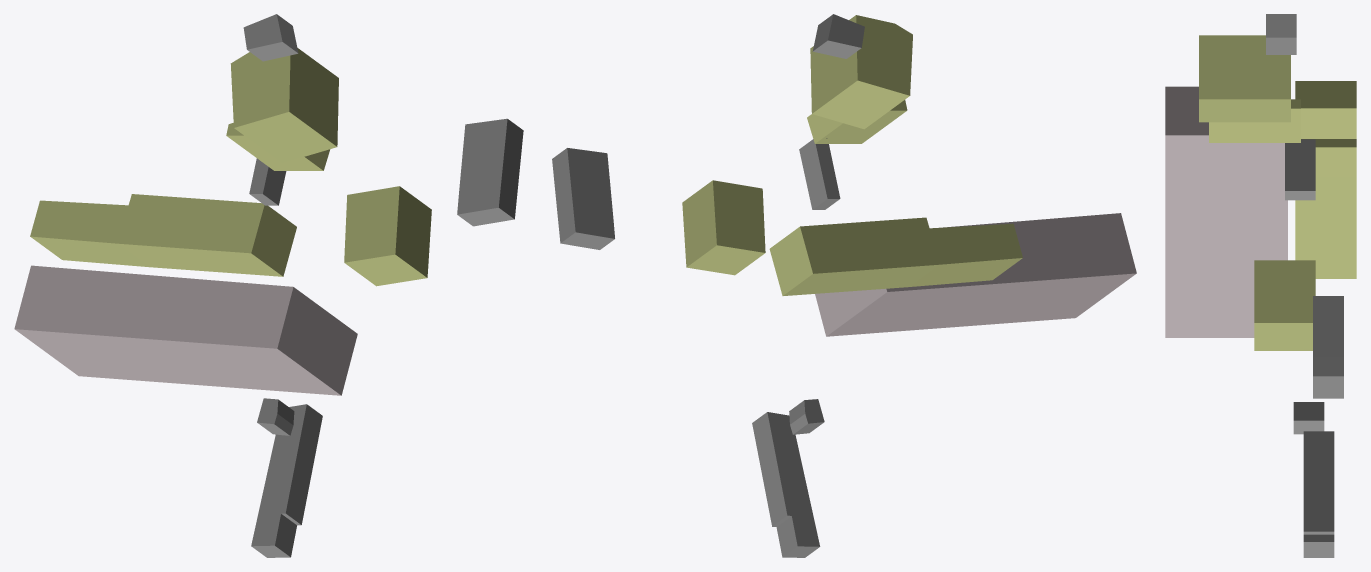
3 views of the same model, side by side, from view 1: azimuth 30°, elevation 25°; view 2: azimuth 150°, elevation 25°; view 3: azimuth 270°, elevation 25° (orthographic). The views are drawn at different scales.
Visible parts, largest first — view 1: 0_1_2_0_1_3_0_3_1; view 2: 0_1_2_0_1_3_0_3_1; view 3: 0_1_2_0_1_3_0_3_1.
Part boxes in pixels (left/top/right/bottom): 0_1_2_0_1_3_0_3_1: left=14, top=14, right=523, bottom=557; 0_1_2_0_1_3_0_3_1: left=552, top=14, right=1136, bottom=557; 0_1_2_0_1_3_0_3_1: left=1165, top=14, right=1356, bottom=557.
Size of the model in its own units: 56.28 by 56.68 by 18.72.
